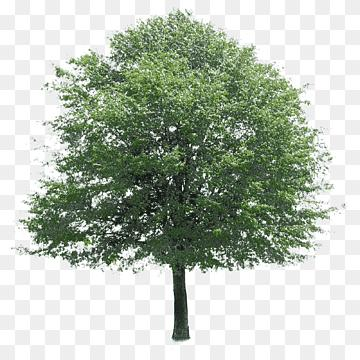tree: (22, 9, 341, 338)
